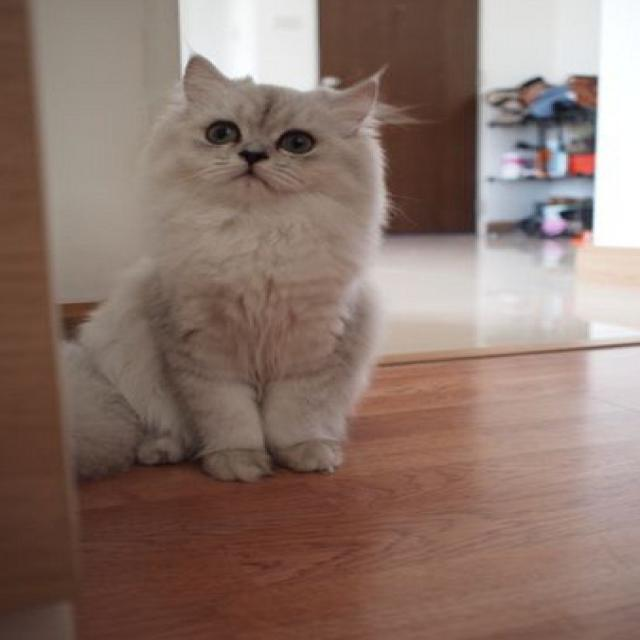Persian: (44, 47, 406, 490)
